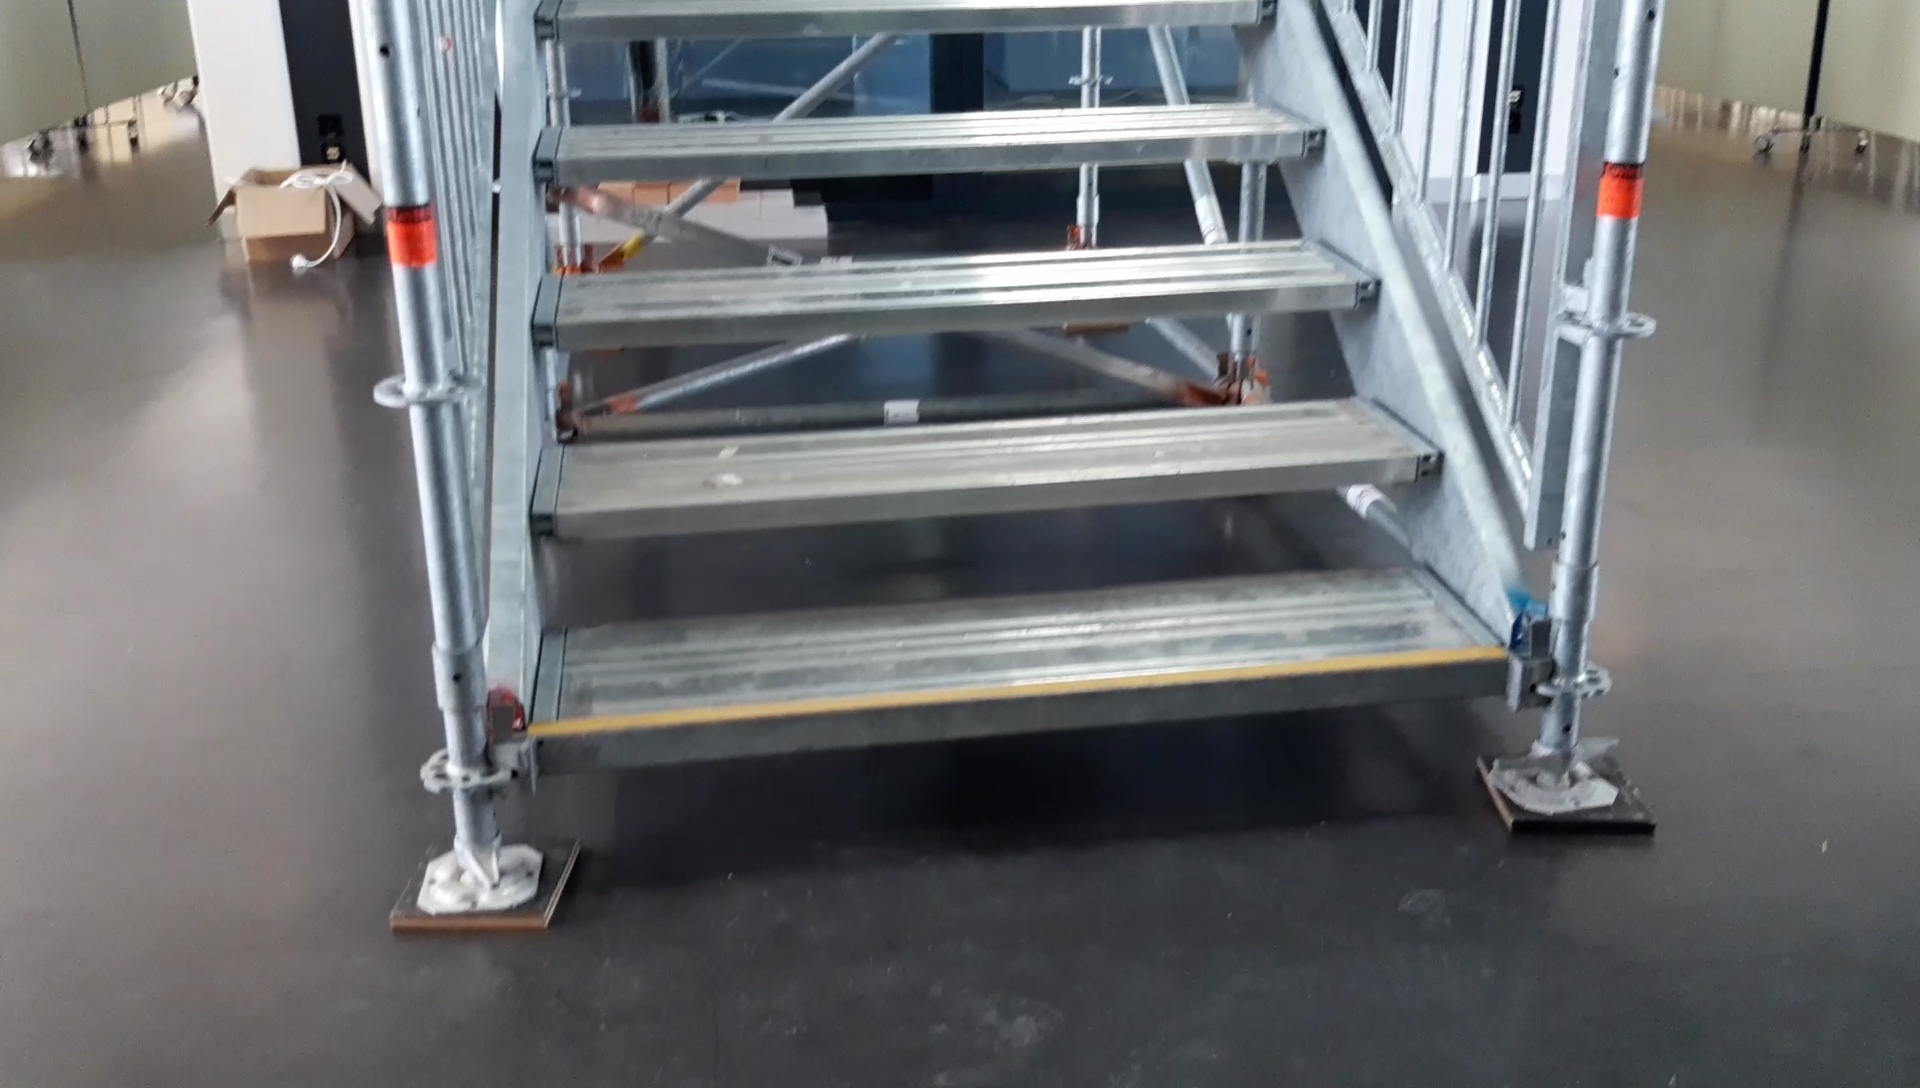brick: (795, 204, 828, 235), (634, 186, 670, 207), (736, 218, 762, 240), (762, 193, 790, 214), (765, 218, 793, 237), (736, 195, 762, 215)
edge: (530, 658, 1513, 770), (530, 448, 1445, 539), (531, 276, 1378, 351), (533, 128, 1325, 179), (531, 0, 1278, 40)
stairs: (371, 3, 1660, 934)
